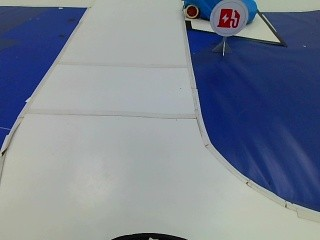battery: (214, 4, 247, 38)
